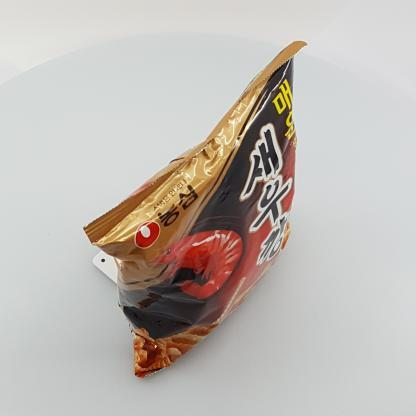Plastic Packaging: (77, 33, 323, 385)
